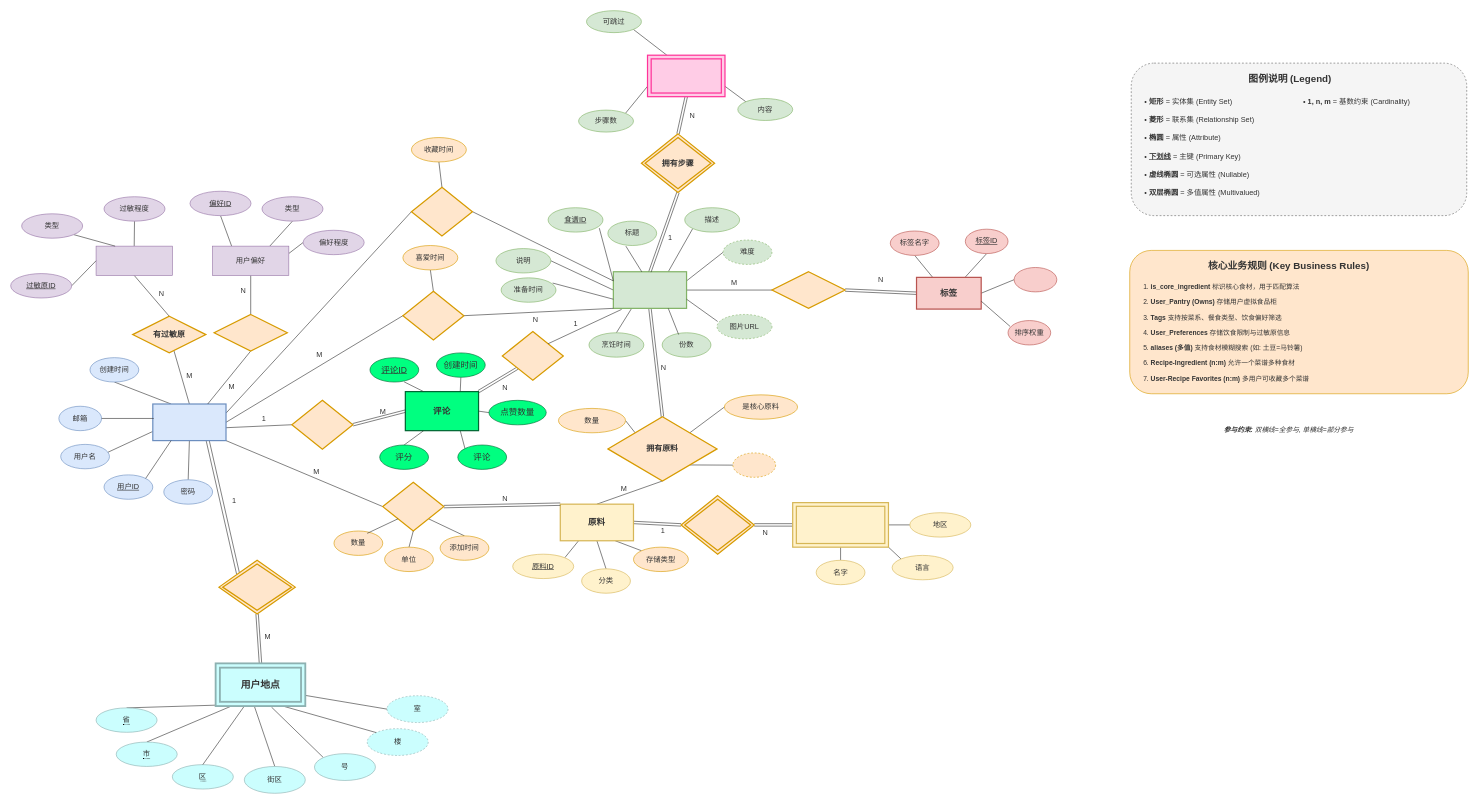
Image size: 1479x804. Some labels were removed from this diagram. The box of each missing label's shape, as (x1, y1, x2, y2) in pixels:
具有名字: (680, 495, 755, 554)
原料名字: (792, 502, 889, 547)
发布: (291, 399, 353, 449)
喜爱: (402, 290, 464, 340)
备注: (732, 452, 776, 477)
所在: (218, 559, 296, 614)
拥有: (382, 481, 444, 531)
拥有标签: (771, 271, 845, 309)
拥有评论: (501, 331, 564, 381)
收藏: (411, 186, 473, 236)
有偏好: (213, 314, 288, 351)
标签类型: (1014, 267, 1057, 292)
步骤: (647, 54, 725, 97)
用户: (152, 403, 226, 441)
用户过敏原: (95, 246, 172, 275)
食谱: (612, 271, 687, 309)
